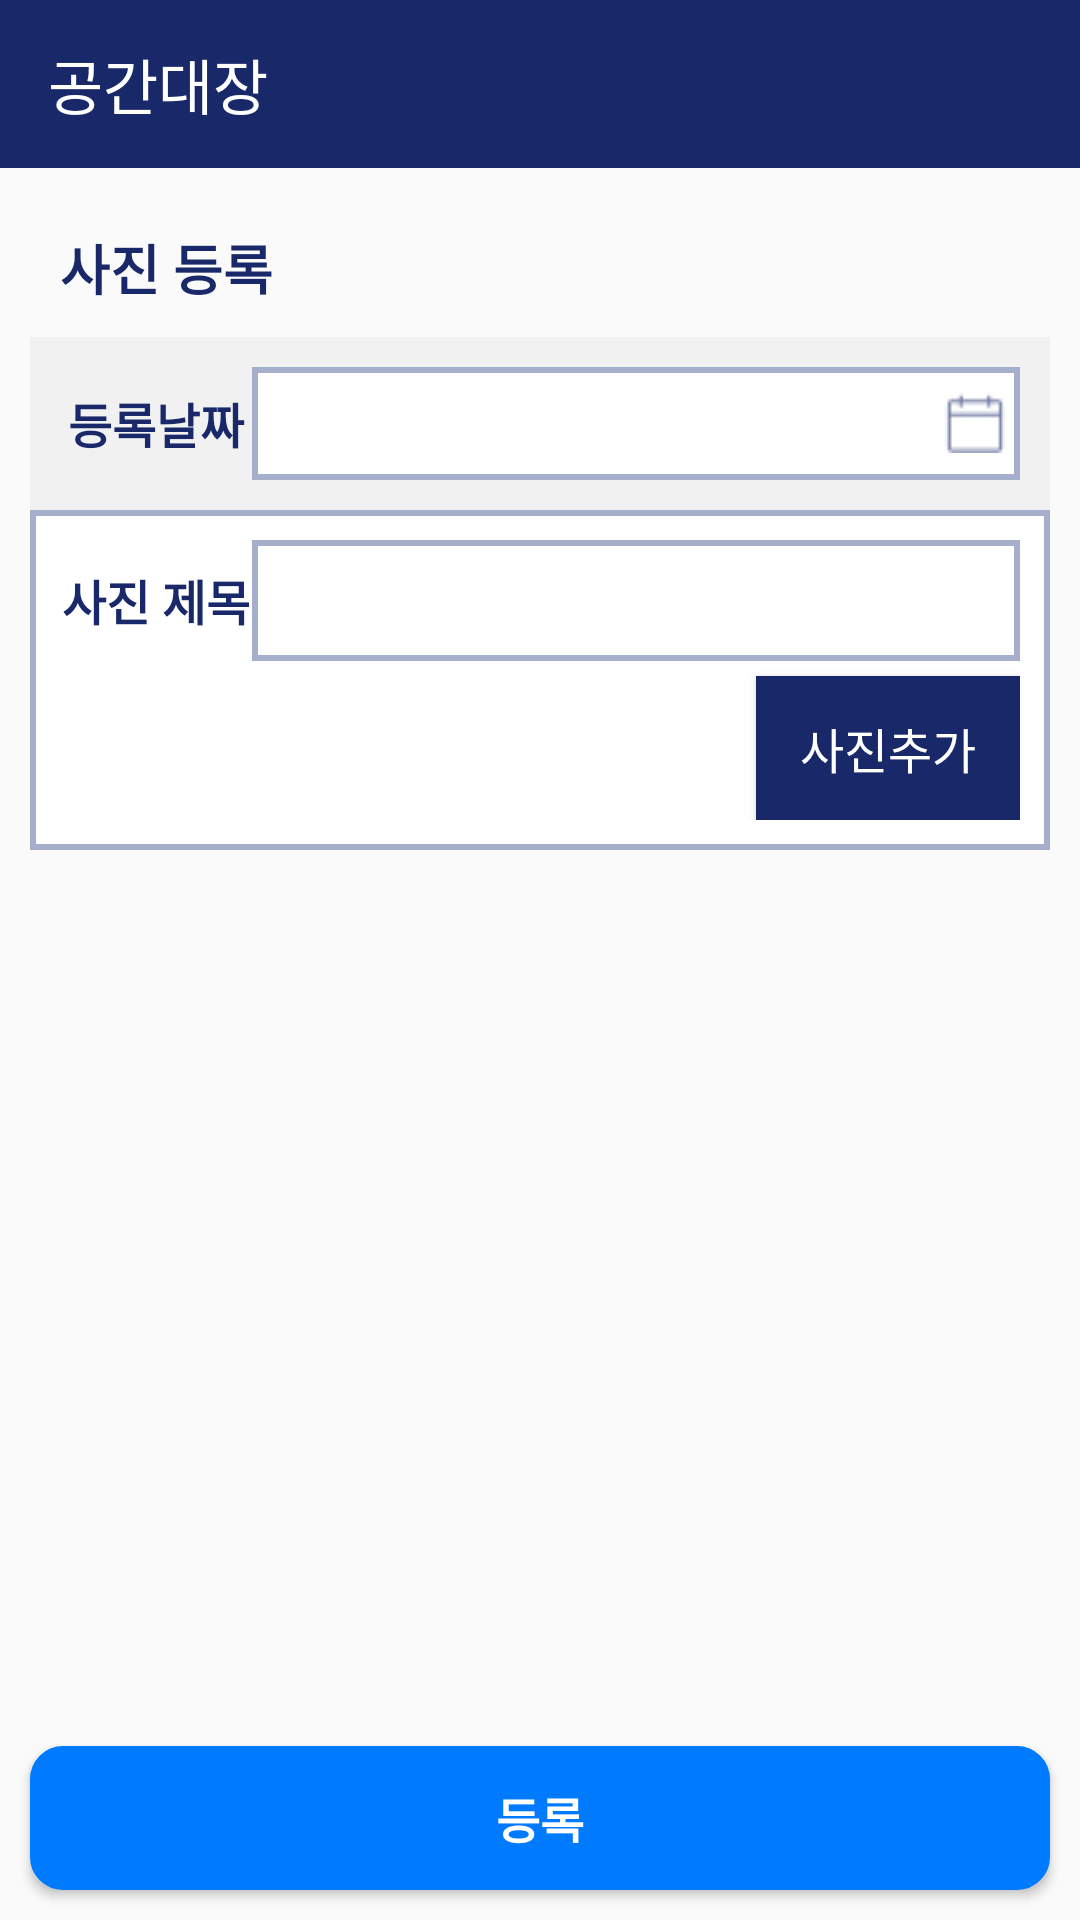

Named icons in this screenshot (1080 × 1920) and their bounding boxes, (x1=x1, y1=y1, x2=x2, y2=y2):
calendar: (x1=947, y1=395, x2=1003, y2=453)
